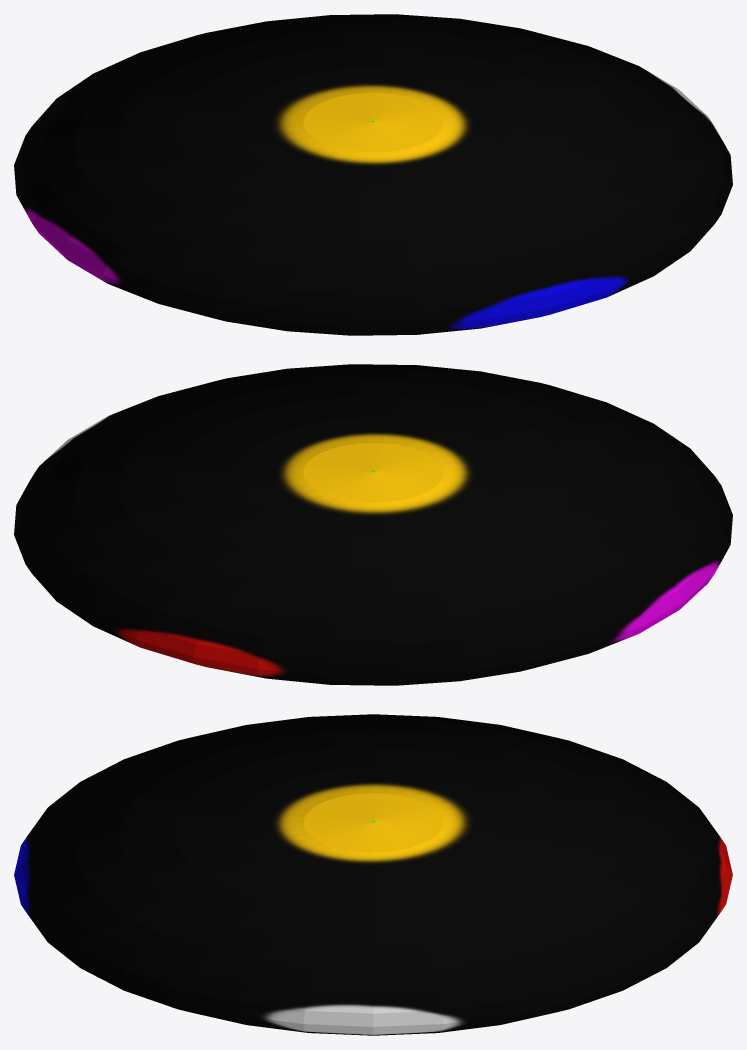
File: qiu2.fbx
The picture shows the model from 3 angles, top to bottom: view 1: azimuth 30°, elevation 25°; view 2: azimuth 150°, elevation 25°; view 3: azimuth 270°, elevation 25°; orthographic projection.
Parts seen in each view (by area): view 1: Sphere; view 2: Sphere; view 3: Sphere.
Boxes of the visible parts, x1,y1,x2,y2 form: Sphere: (14, 14, 732, 335); Sphere: (14, 364, 732, 685); Sphere: (14, 714, 732, 1035).
Size of the model in its own units: 200 by 200 by 32.7.
1 material, 1 textured.
